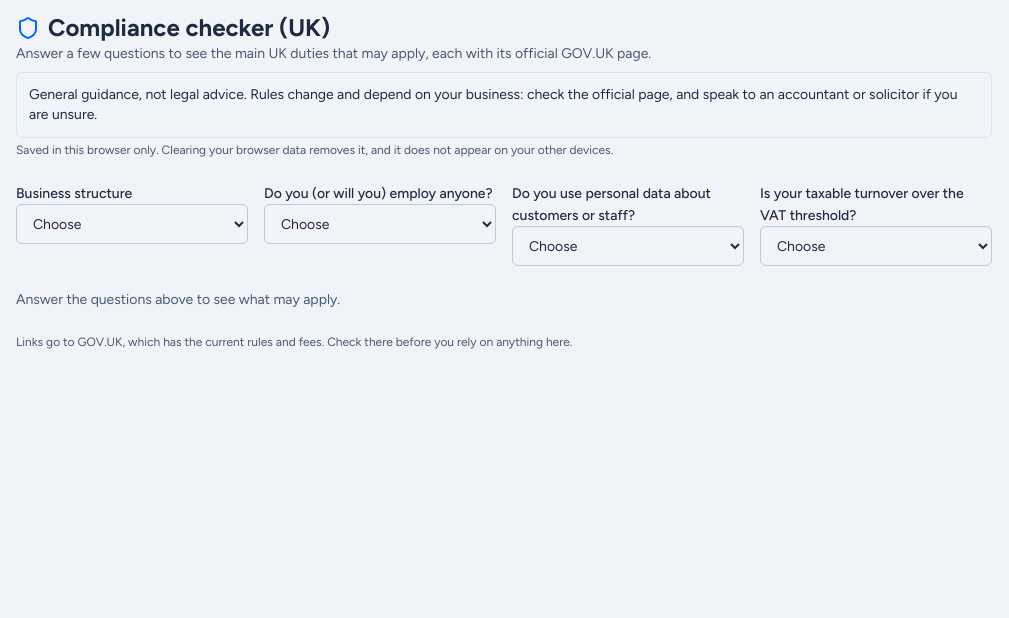
Test case: Compliance Checker, Best Practices, Cost Calculator (Phase 38) › compliance: not legal advice, empty state, then items each linked to GOV.UK
Expected: the text with test id "not-legal-advice" shows "General guidance, not legal advice.", x1=29 y1=86 x2=958 y2=123
Expected: the text "Answer the questions above to see what may apply." is shown, x1=16 y1=291 x2=340 y2=308
Select "Yes" in the dropdown labelled "Do you (or will you) employ anyone?" at point(380, 224), box x1=264 y1=204 x2=496 y2=244
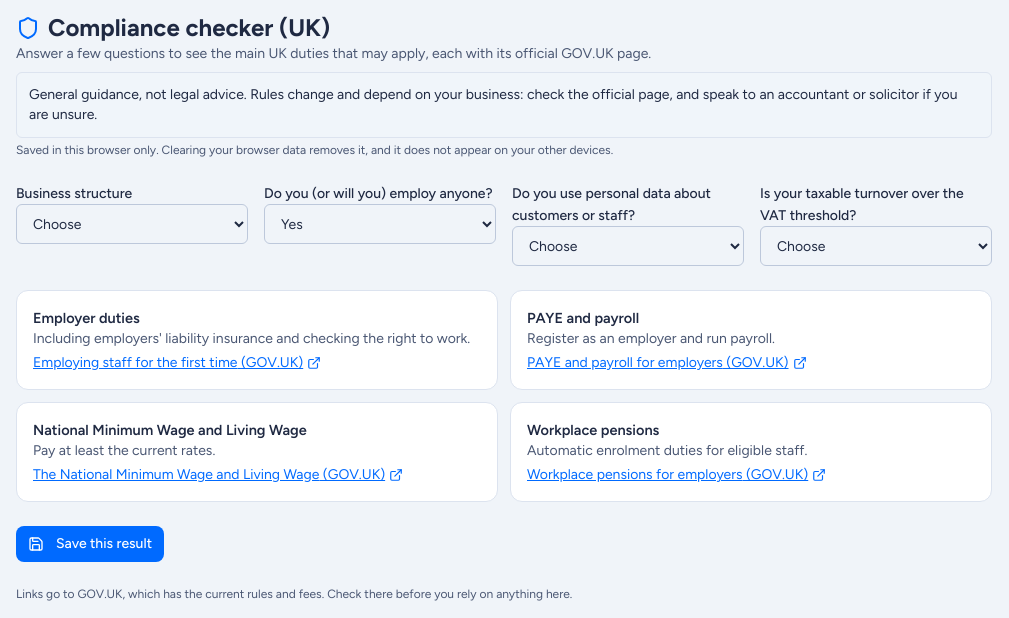
Result: the number of list items with test id "cc-item" is 4 at x1=16 y1=290 x2=498 y2=390; x1=510 y1=290 x2=992 y2=390; x1=16 y1=402 x2=498 y2=502; x1=510 y1=402 x2=992 y2=502
